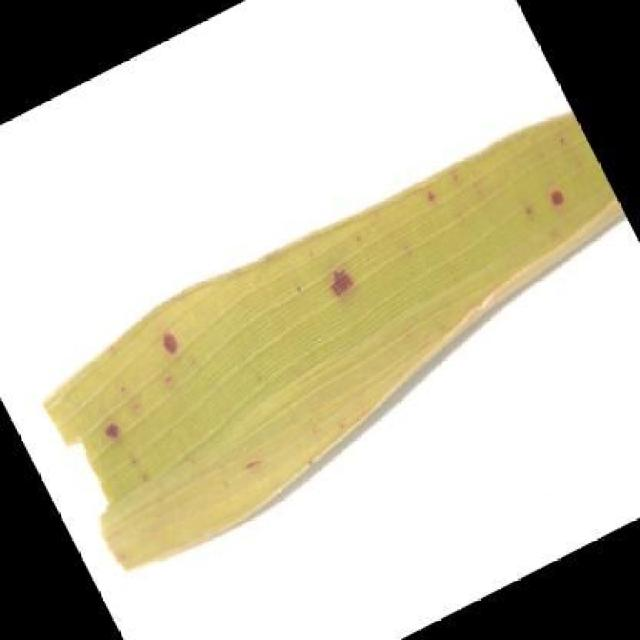Leaf_Blast: (300, 232, 375, 314), (531, 164, 577, 219), (146, 314, 192, 360), (96, 411, 132, 454)
